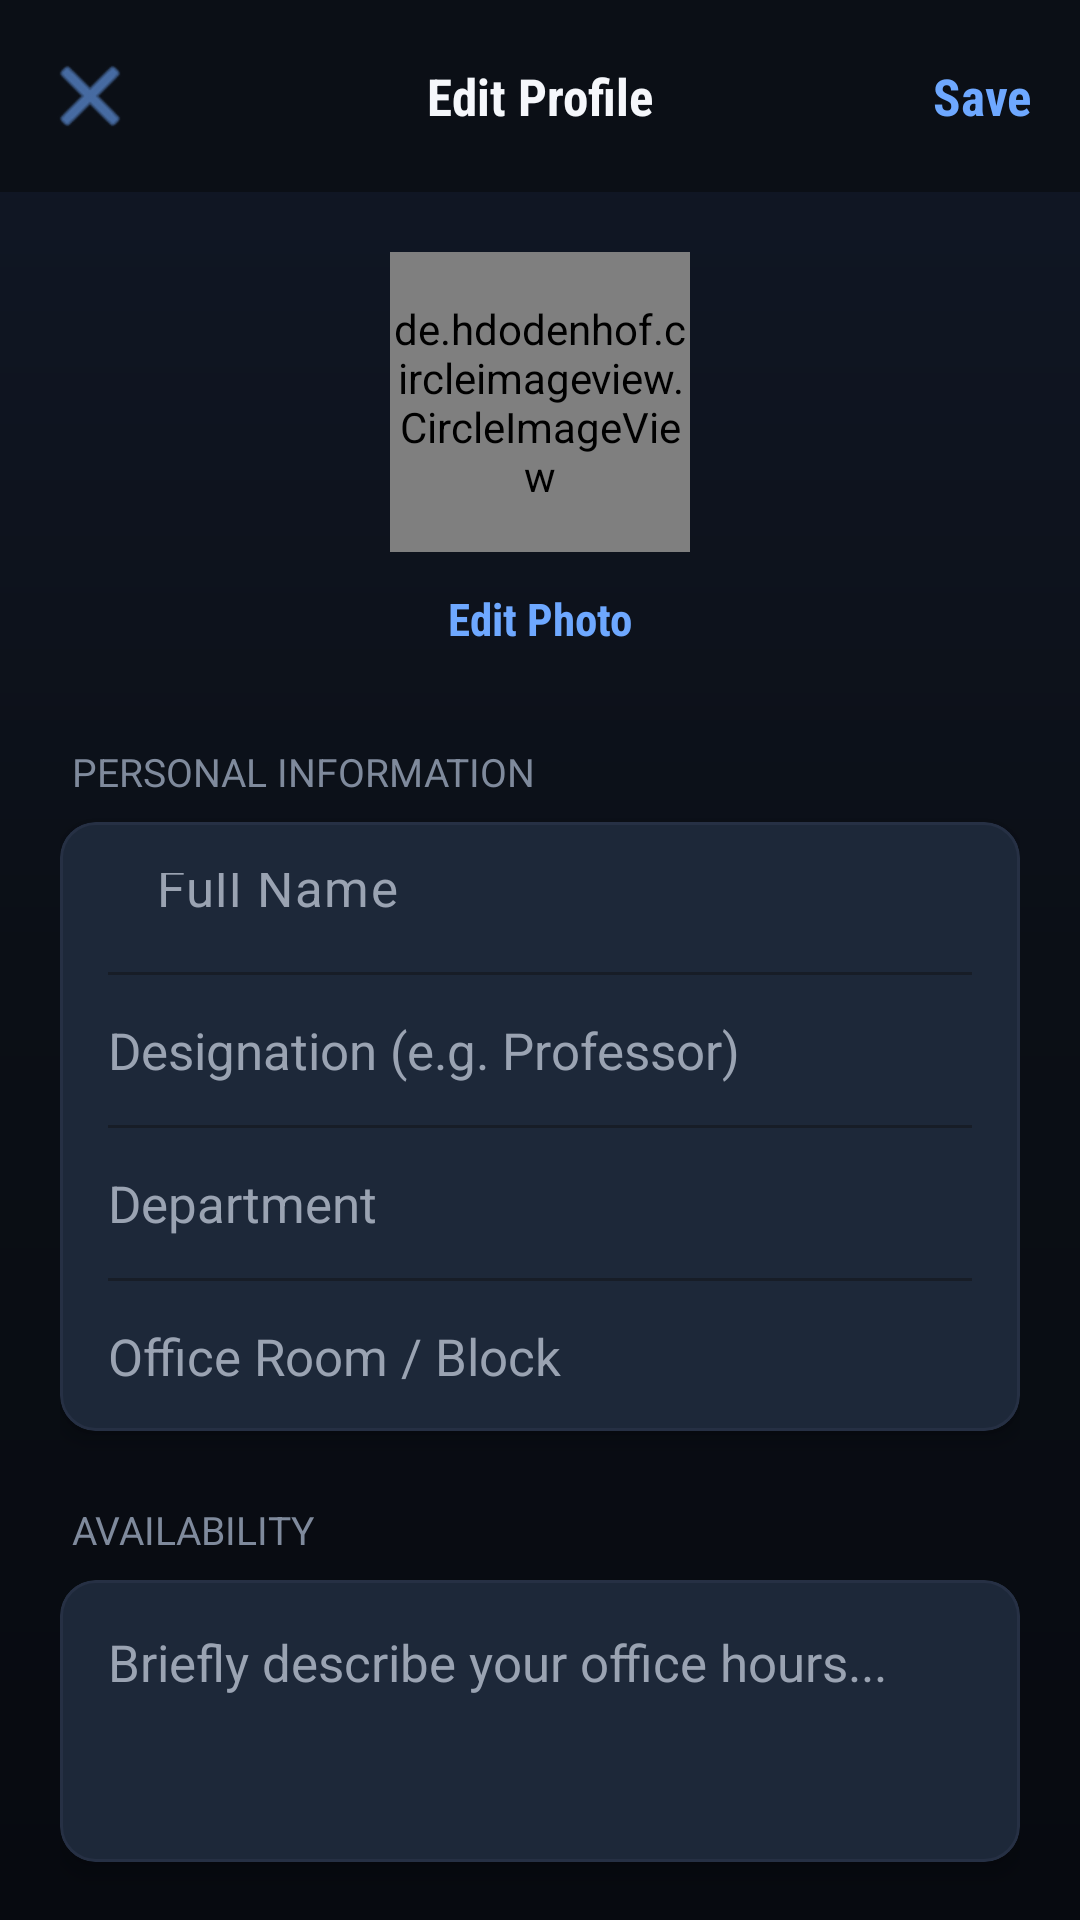

Icons on this 1080*1920 Android screen, each with the point to tap as [x,y]:
close clear cancel: [90,96]
